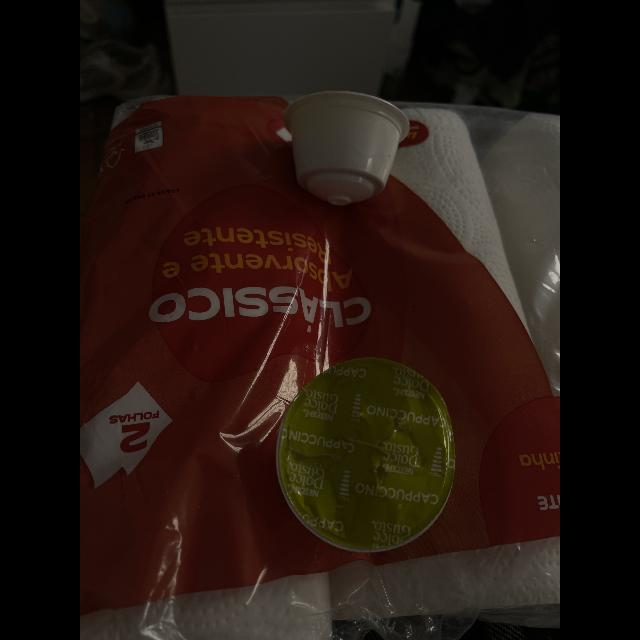damaged_capsule: (272, 352, 464, 556)
intact_capsule: (276, 83, 418, 213)
